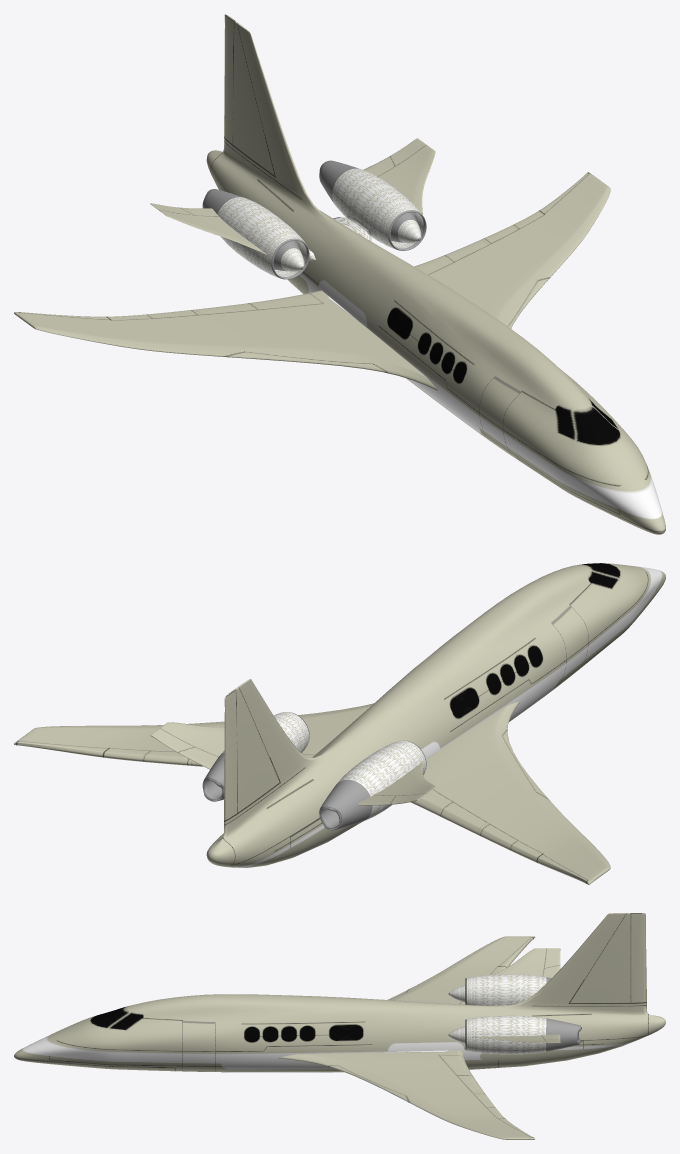
Rendered from SC_Private_0012.obj.
3 renders of one model, top to bottom at view 1: azimuth 30°, elevation 25°; view 2: azimuth 150°, elevation 25°; view 3: azimuth 270°, elevation 25°, orthographic. The views are drawn at different scales.
Visible parts, largest first — view 1: Main_Hull_0001_Cube.000_Main_Surface_, Wing_set_Cube.011_Main_Surface_, Engine_01_Left_Torus.001_Main_Surface_, Engine_01_Right_Torus.000_Main_Surface_, Elevator_L01_Cube.003_Main_Surface_, Elevator_R01_Cube.001_Main_Surface_, Engine_01_Left_Torus.001_Material_Chrome, Engine_01_Right_Torus.000_Material_Chrome; view 2: Main_Hull_0001_Cube.000_Main_Surface_, Wing_set_Cube.011_Main_Surface_, Engine_01_Right_Torus.000_Main_Surface_, Elevator_L01_Cube.003_Main_Surface_, Engine_01_Right_Torus.000_Material_Chrome, Elevator_R01_Cube.001_Main_Surface_, Engine_01_Left_Torus.001_Main_Surface_, Engine_01_Left_Torus.001_Material_Chrome; view 3: Main_Hull_0001_Cube.000_Main_Surface_, Wing_set_Cube.011_Main_Surface_, Engine_01_Left_Torus.001_Main_Surface_, Engine_01_Right_Torus.000_Main_Surface_, Elevator_R01_Cube.001_Main_Surface_, Engine_01_Left_Torus.001_Material_Chrome, Elevator_L01_Cube.003_Main_Surface_.
Boxes of the visible parts, x1,y1,x2,y2 form: Main_Hull_0001_Cube.000_Main_Surface_: (206, 14, 665, 534); Wing_set_Cube.011_Main_Surface_: (14, 172, 610, 390); Engine_01_Left_Torus.001_Main_Surface_: (332, 168, 423, 249); Engine_01_Right_Torus.000_Main_Surface_: (217, 197, 315, 277); Elevator_L01_Cube.003_Main_Surface_: (363, 138, 435, 214); Elevator_R01_Cube.001_Main_Surface_: (150, 203, 267, 254); Engine_01_Left_Torus.001_Material_Chrome: (319, 160, 426, 250); Engine_01_Right_Torus.000_Material_Chrome: (202, 189, 309, 279); Main_Hull_0001_Cube.000_Main_Surface_: (206, 563, 665, 867); Wing_set_Cube.011_Main_Surface_: (14, 701, 610, 884); Engine_01_Right_Torus.000_Main_Surface_: (338, 740, 426, 821); Elevator_L01_Cube.003_Main_Surface_: (150, 722, 224, 769); Engine_01_Right_Torus.000_Material_Chrome: (319, 740, 426, 830); Elevator_R01_Cube.001_Main_Surface_: (357, 762, 435, 805); Engine_01_Left_Torus.001_Main_Surface_: (221, 712, 309, 753); Engine_01_Left_Torus.001_Material_Chrome: (202, 712, 309, 801); Main_Hull_0001_Cube.000_Main_Surface_: (14, 913, 665, 1072); Wing_set_Cube.011_Main_Surface_: (279, 936, 535, 1139); Engine_01_Left_Torus.001_Main_Surface_: (467, 1015, 546, 1054); Engine_01_Right_Torus.000_Main_Surface_: (467, 974, 546, 1005); Elevator_R01_Cube.001_Main_Surface_: (492, 948, 560, 978); Engine_01_Left_Torus.001_Material_Chrome: (465, 1018, 580, 1051); Elevator_L01_Cube.003_Main_Surface_: (472, 1034, 560, 1042).
Bounding box in the file's own units: 17.03 × 6.1 × 23.16.
3 materials, 1 textured.
